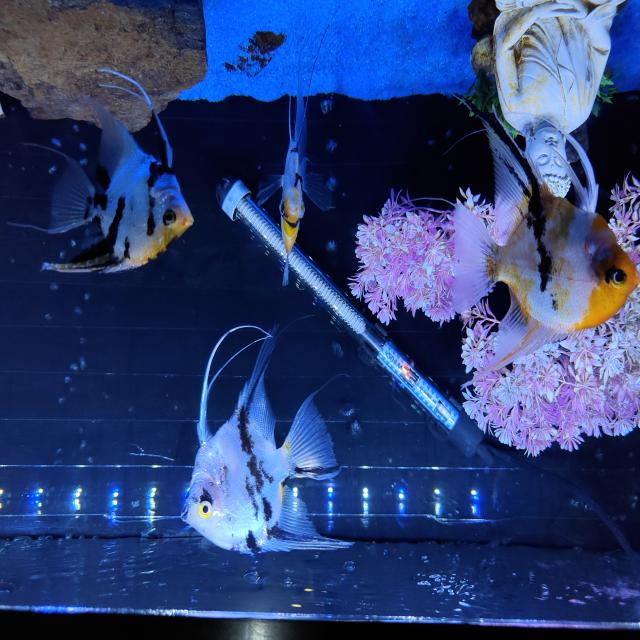Fish: (453, 117, 639, 377), (182, 325, 352, 553), (41, 69, 193, 271), (257, 62, 331, 284)
